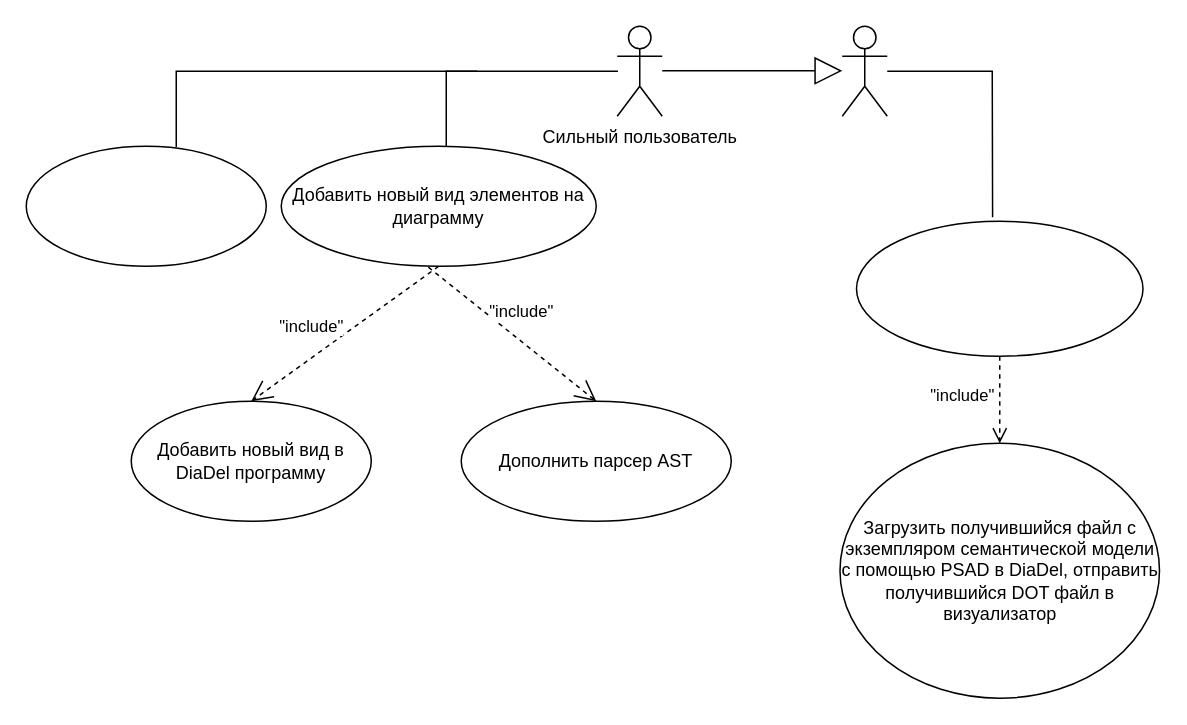
Image size: 1187x725. Some labels were removed from this diagram. Each missing label, with the box of its shape:
Визуализировать псевдокод в виде диаграммы деятельности: (855, 220, 1143, 356)
Написать свой псведокод: (25, 145, 266, 266)
Пользователь: (841, 25, 887, 116)
